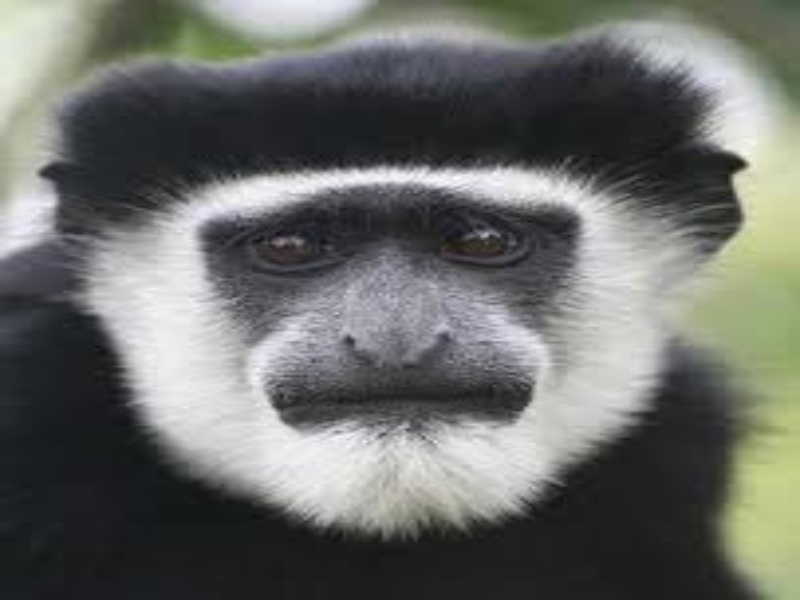monkey: (33, 32, 763, 596)
